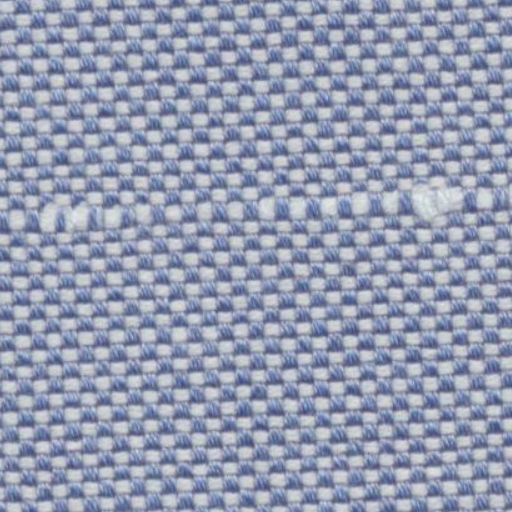DaiSha: (12, 172, 497, 242)
